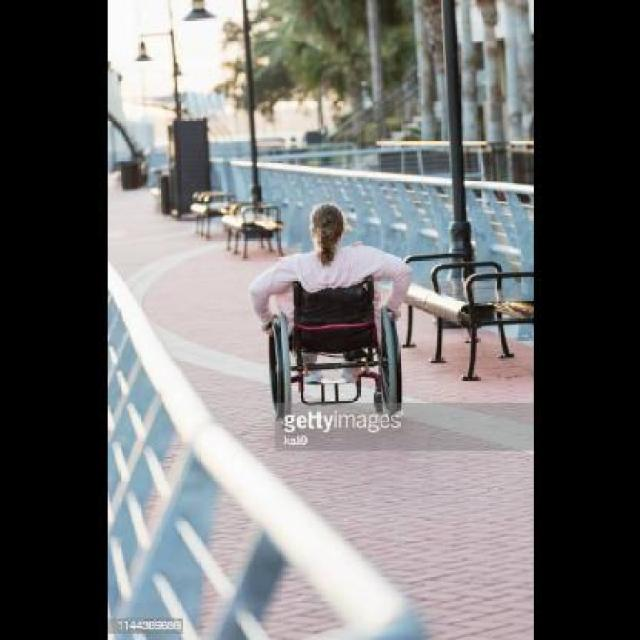wheelchairs: (259, 274, 407, 421)
